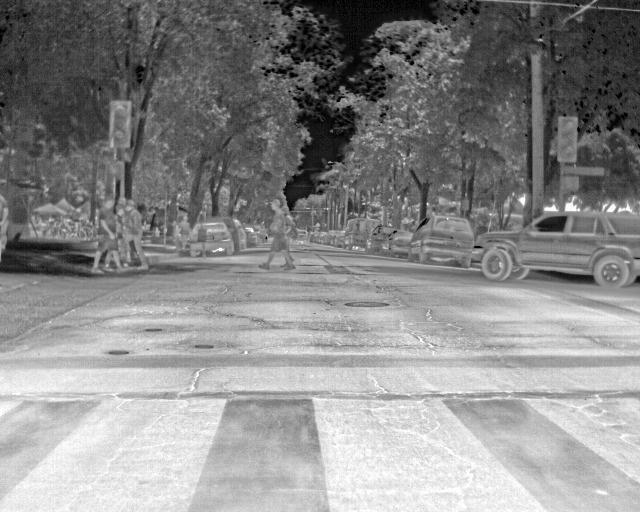bicycle: (476, 212, 639, 290), (411, 214, 476, 270), (341, 216, 380, 251), (205, 222, 236, 257), (365, 223, 399, 254), (389, 231, 415, 260)
empty: (257, 195, 295, 271), (93, 200, 127, 275), (125, 201, 148, 272), (115, 203, 129, 246)
